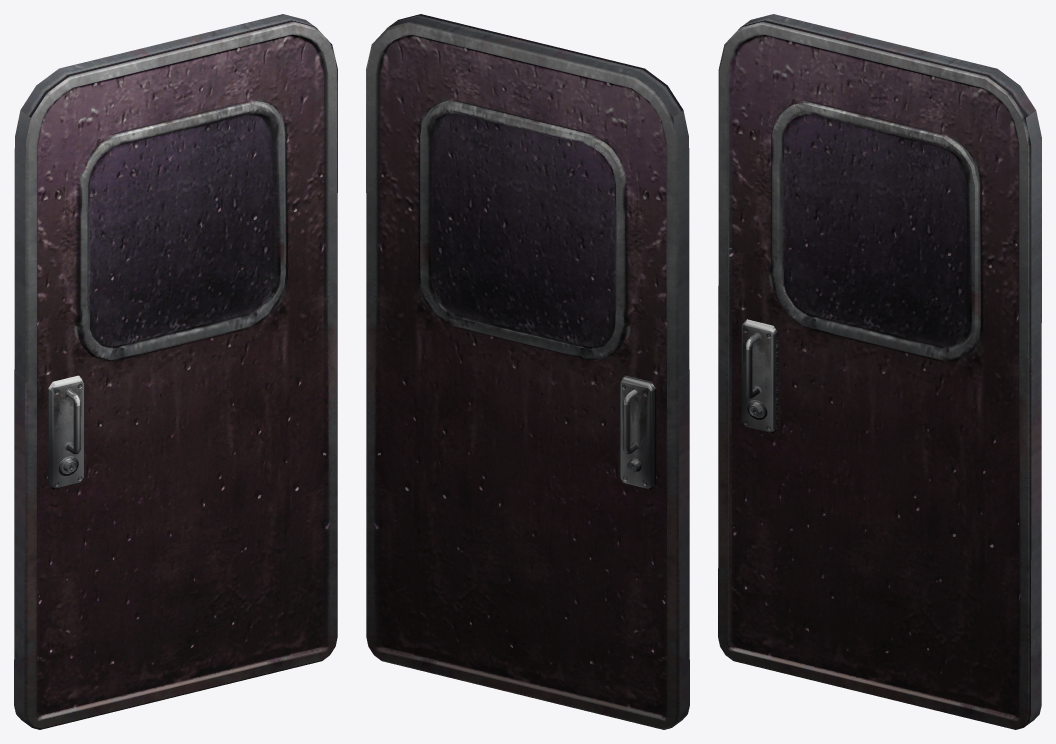
The model's file is Traindoor2.obj.
The picture shows the model from 3 angles, left to right: view 1: azimuth 30°, elevation 25°; view 2: azimuth 150°, elevation 25°; view 3: azimuth 330°, elevation 25°; orthographic projection.
Parts seen in each view (by area): view 1: model_d0a; view 2: model_d0a; view 3: model_d0a.
Part boxes in pixels (x1,y1,x2,y2): model_d0a: [14, 14, 337, 729]; model_d0a: [366, 14, 689, 729]; model_d0a: [718, 14, 1041, 729].
Bounding box in the file's own units: 0.338 × 0.6666 × 0.0664.
